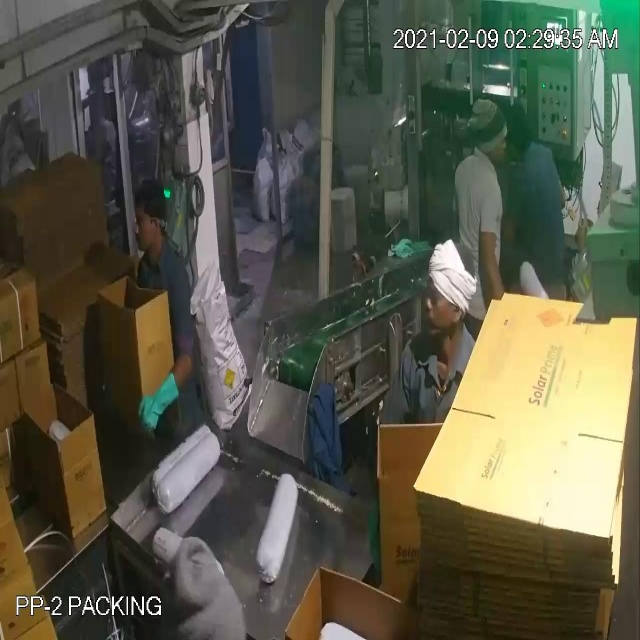Guantes: (135, 366, 188, 437)
Sin_guantes: (476, 220, 509, 308)
